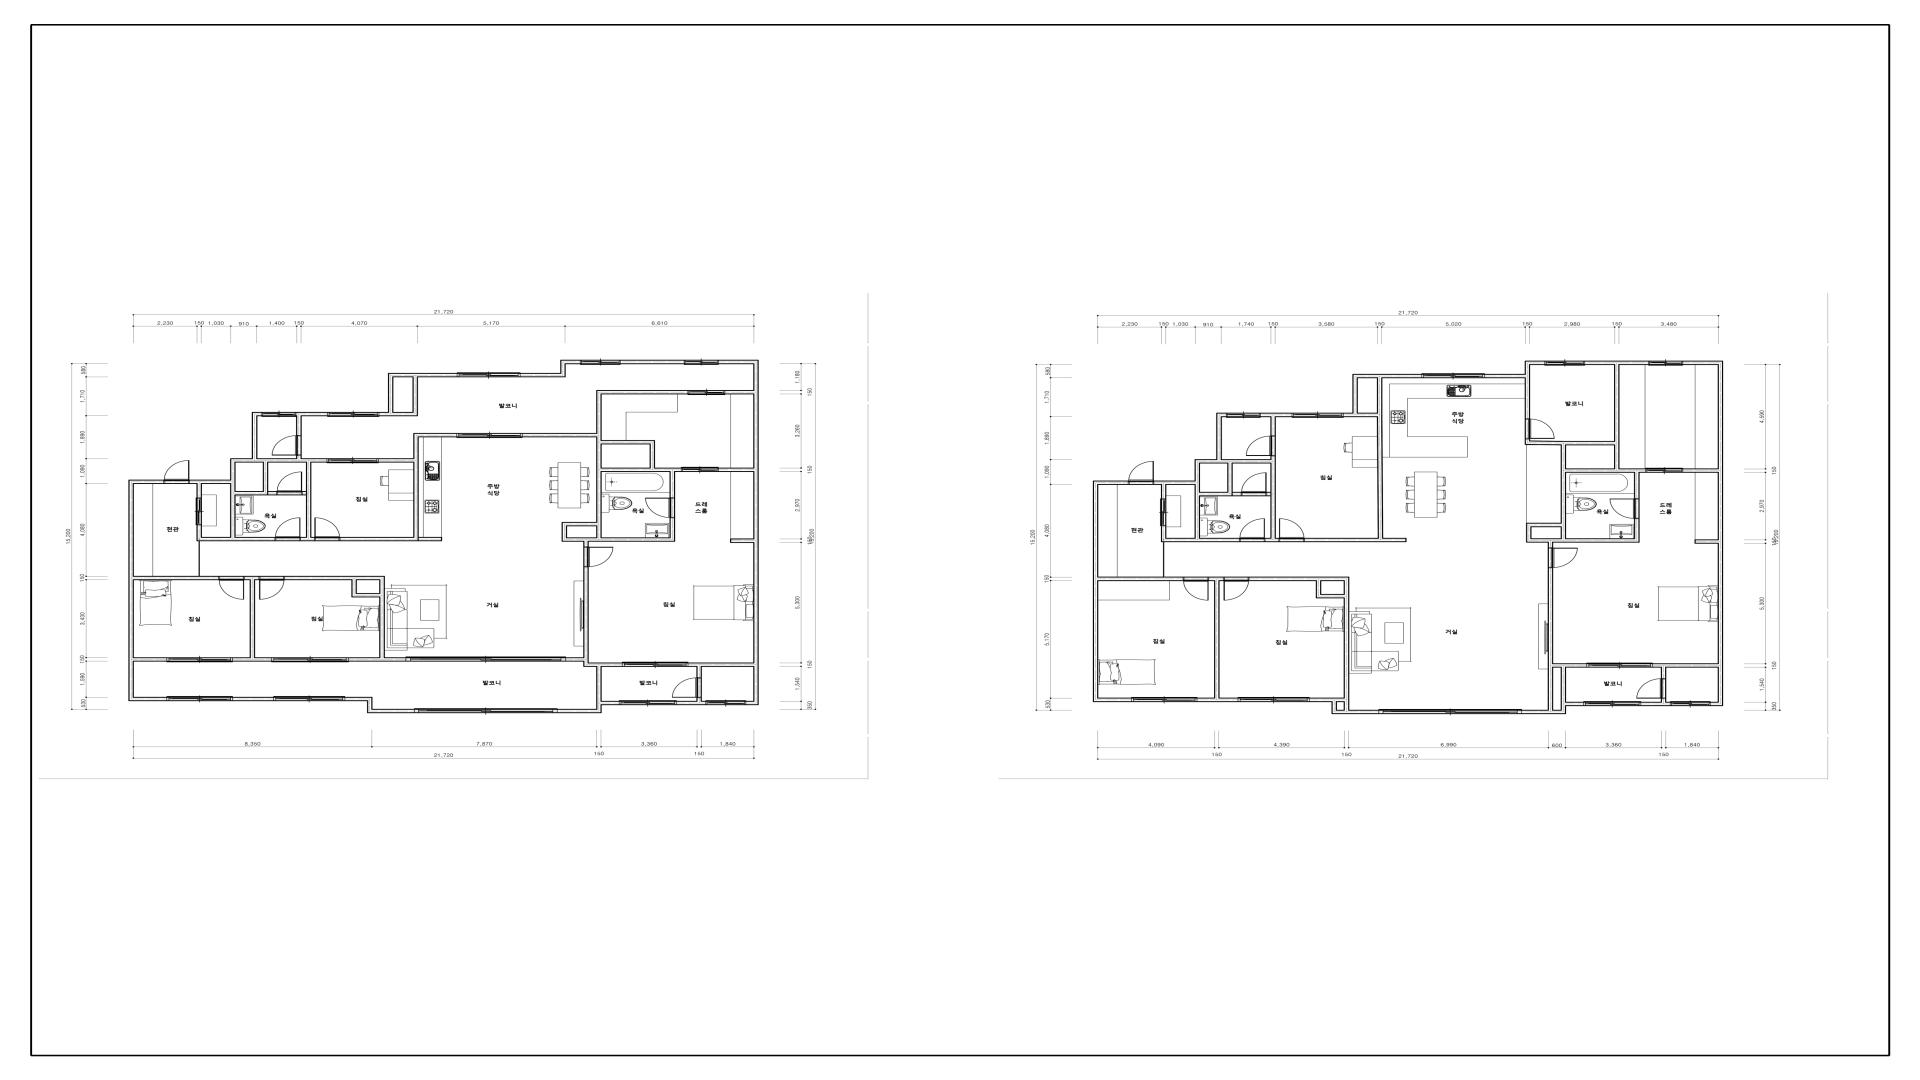door: (1246, 435, 1276, 456), (1524, 418, 1555, 439), (1548, 547, 1578, 568), (1636, 678, 1667, 699), (272, 435, 302, 456), (645, 497, 675, 518), (258, 576, 285, 600), (1241, 472, 1267, 496), (1183, 576, 1209, 600), (164, 460, 190, 484), (314, 517, 340, 541), (583, 547, 613, 567), (219, 576, 244, 600), (1129, 462, 1154, 485), (1240, 518, 1265, 542), (1279, 518, 1304, 542), (1224, 576, 1249, 600), (277, 472, 302, 496), (276, 517, 301, 541), (1610, 498, 1639, 518), (673, 678, 702, 698), (682, 467, 719, 472), (1160, 498, 1167, 526), (195, 498, 202, 525), (1646, 468, 1683, 472)
wall: (753, 364, 758, 702), (1718, 365, 1724, 702), (128, 484, 135, 696), (1093, 485, 1098, 698), (1377, 378, 1383, 538), (596, 394, 601, 538), (1548, 567, 1553, 709), (413, 433, 419, 537), (1344, 582, 1349, 709), (583, 567, 589, 662), (1215, 582, 1220, 698), (562, 537, 675, 542), (1526, 538, 1634, 543), (1614, 365, 1619, 468), (1270, 456, 1276, 538), (1249, 576, 1349, 582), (1561, 446, 1567, 538), (1530, 440, 1614, 446), (1098, 576, 1183, 582), (380, 576, 385, 657), (1567, 468, 1646, 473), (1304, 538, 1407, 542), (249, 580, 255, 657), (306, 463, 311, 537), (522, 433, 596, 438), (285, 576, 380, 580), (596, 390, 688, 394), (688, 662, 753, 667), (133, 576, 219, 580), (601, 468, 682, 472), (1160, 538, 1240, 542), (1216, 417, 1222, 464), (340, 537, 419, 541), (348, 657, 406, 662), (202, 537, 276, 541), (1195, 485, 1200, 538), (231, 484, 236, 537), (388, 373, 458, 377), (257, 459, 327, 463), (1353, 375, 1422, 378), (1524, 378, 1531, 419), (1652, 663, 1718, 667), (620, 360, 684, 364), (1585, 361, 1648, 365), (1222, 459, 1270, 464), (252, 417, 257, 463), (1522, 709, 1567, 715), (232, 696, 274, 702), (1683, 360, 1724, 365), (1154, 480, 1195, 485), (601, 440, 655, 444), (128, 696, 167, 702), (1485, 373, 1524, 378), (388, 377, 393, 417), (583, 662, 622, 667), (232, 657, 272, 662), (1353, 378, 1358, 417), (419, 433, 458, 438), (1093, 480, 1129, 485), (378, 458, 414, 463), (1561, 667, 1567, 702), (413, 377, 418, 411), (556, 709, 601, 713), (295, 411, 328, 417), (596, 667, 601, 700), (135, 657, 167, 662), (1337, 709, 1379, 713), (236, 491, 268, 496), (373, 709, 414, 713), (1197, 698, 1238, 702), (520, 373, 560, 377), (190, 480, 231, 484), (676, 700, 707, 705), (1531, 522, 1561, 527), (719, 360, 758, 364), (344, 696, 373, 702), (1093, 698, 1131, 702), (1228, 464, 1233, 492), (262, 463, 268, 491), (128, 480, 164, 484), (1683, 468, 1718, 472), (1634, 472, 1639, 498), (719, 468, 753, 472), (1634, 518, 1639, 543), (393, 411, 418, 417), (670, 472, 675, 497), (1200, 492, 1233, 496), (1553, 663, 1586, 667), (1261, 413, 1292, 417), (650, 444, 655, 468), (1270, 417, 1276, 435), (295, 417, 302, 435), (1640, 702, 1671, 705), (1195, 463, 1200, 485), (1321, 593, 1344, 599), (731, 538, 753, 543), (567, 522, 596, 526), (231, 463, 236, 484), (1309, 698, 1337, 702), (725, 390, 753, 394), (1526, 522, 1532, 538), (601, 700, 620, 705), (670, 518, 675, 537), (1695, 539, 1718, 543), (418, 537, 442, 541), (1316, 582, 1321, 599), (566, 657, 583, 662), (352, 580, 357, 597), (357, 593, 380, 597), (1524, 361, 1545, 365), (1195, 459, 1216, 463), (231, 459, 252, 463), (196, 525, 202, 541), (562, 522, 567, 538), (367, 702, 373, 713), (1160, 526, 1167, 538), (560, 360, 580, 364), (1209, 576, 1224, 582), (196, 484, 202, 498), (1358, 413, 1377, 417), (1524, 365, 1530, 378), (1160, 485, 1166, 498), (1332, 702, 1337, 715), (560, 364, 566, 377), (1567, 702, 1584, 705), (1662, 667, 1667, 679), (1265, 538, 1279, 542), (301, 537, 315, 541), (244, 576, 258, 580), (252, 411, 262, 417), (696, 667, 702, 678), (745, 702, 758, 705), (1710, 702, 1724, 705), (596, 700, 601, 709), (378, 411, 388, 417), (268, 491, 277, 496), (1216, 413, 1226, 417), (1561, 702, 1567, 709), (1344, 413, 1353, 417), (583, 542, 589, 547), (1233, 492, 1241, 496), (1548, 542, 1553, 547), (1524, 439, 1530, 444), (1337, 698, 1344, 702), (297, 455, 302, 459), (302, 491, 306, 496), (1266, 492, 1270, 496), (696, 698, 702, 700), (1662, 699, 1667, 702)
window: (406, 657, 566, 662), (1379, 709, 1522, 715), (414, 708, 556, 713), (272, 657, 348, 662), (274, 696, 344, 702), (622, 662, 688, 667), (458, 433, 522, 438), (167, 696, 232, 702), (167, 657, 232, 662), (1422, 373, 1485, 378), (458, 372, 520, 377), (620, 700, 676, 705), (1238, 698, 1309, 702), (1292, 413, 1344, 418), (328, 411, 378, 417), (1586, 663, 1652, 667), (1131, 698, 1197, 702), (1584, 702, 1640, 705), (705, 700, 746, 705), (580, 360, 620, 365), (327, 459, 378, 463), (688, 390, 725, 396), (1226, 413, 1261, 418), (684, 360, 719, 365), (262, 411, 295, 417), (1545, 361, 1585, 365), (1671, 702, 1710, 705), (1648, 361, 1683, 365)
